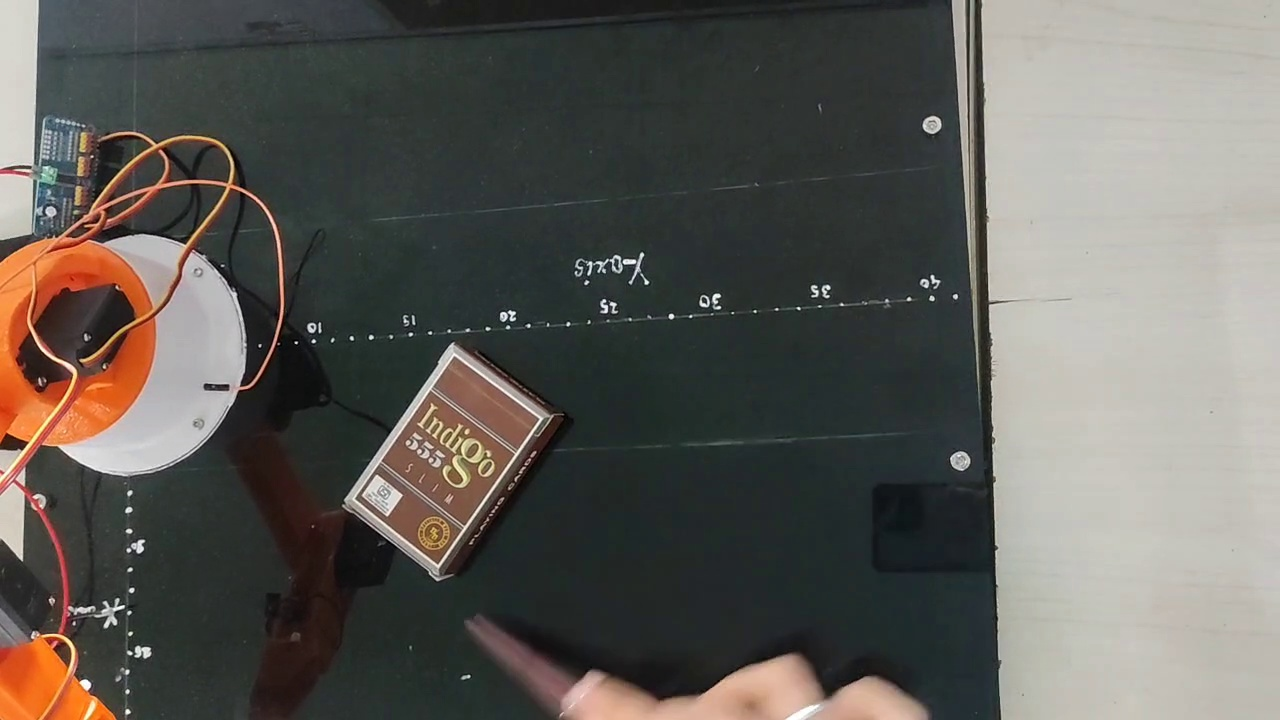BEX: (344, 341, 549, 569)
